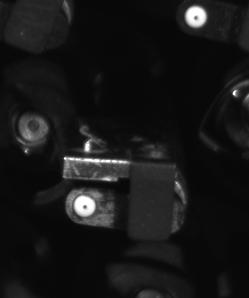fiber: (177, 1, 218, 34), (68, 190, 102, 221)
